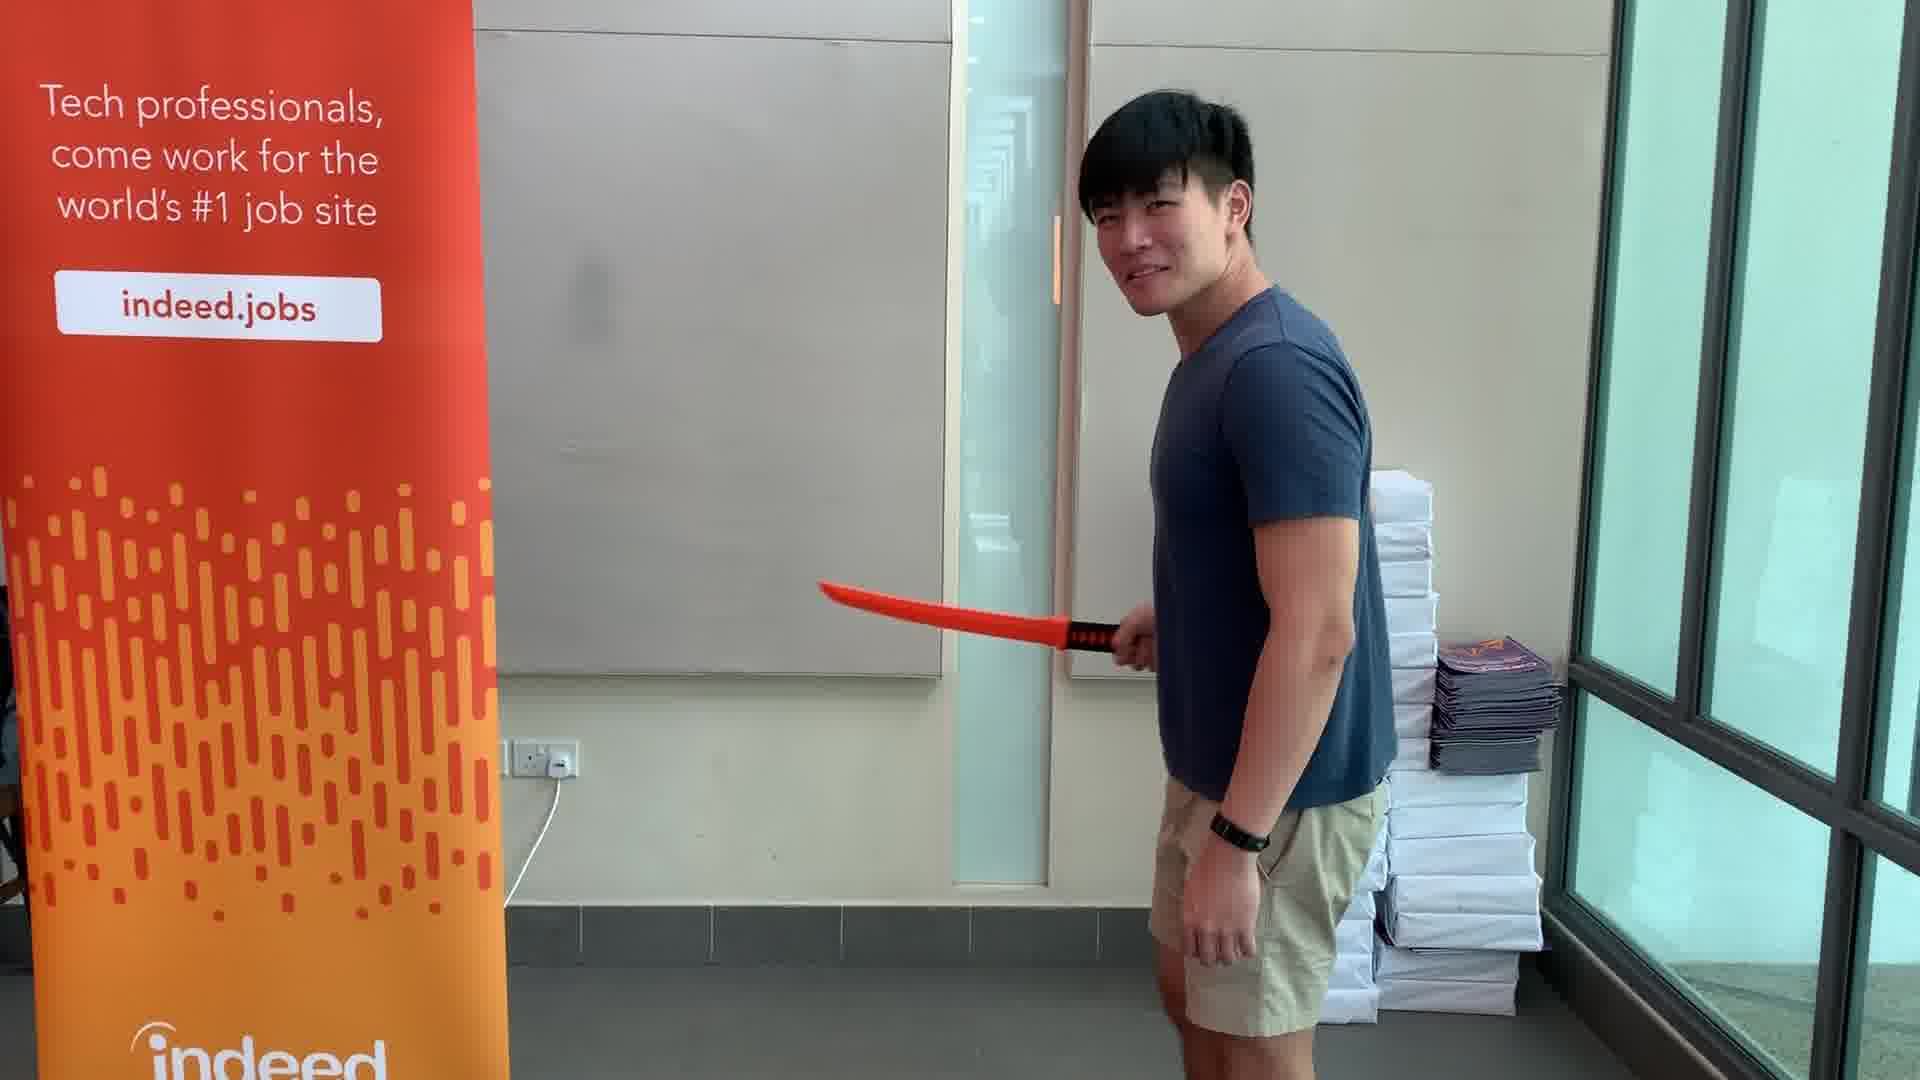knife: (808, 572, 1166, 674)
